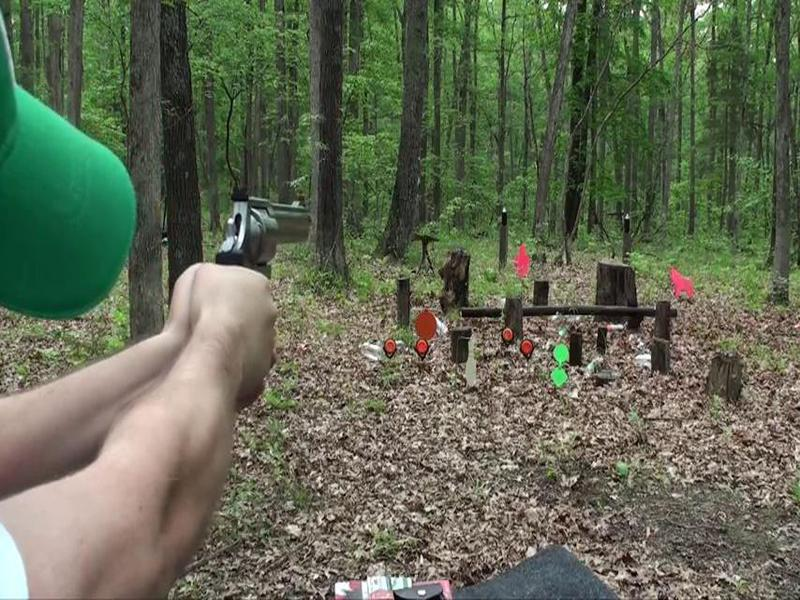Revolver: (186, 171, 332, 302)
